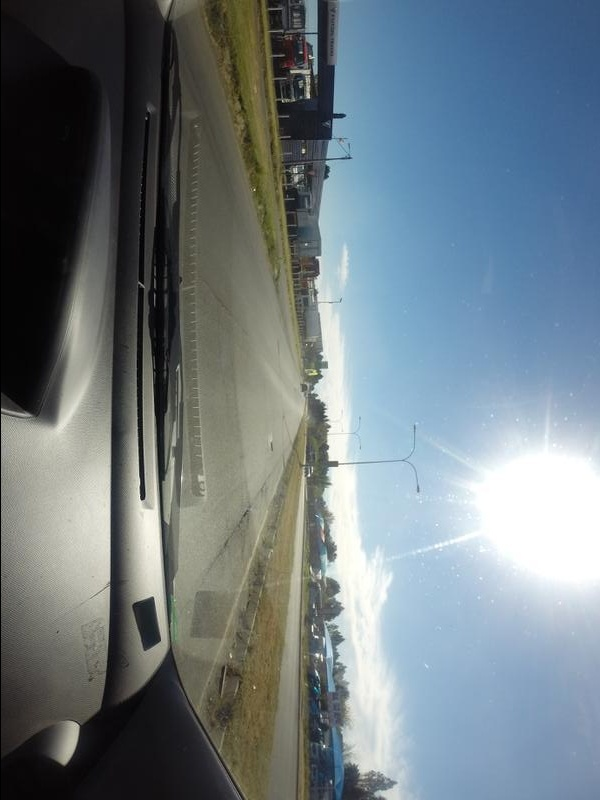pothole: (269, 440, 277, 457)
